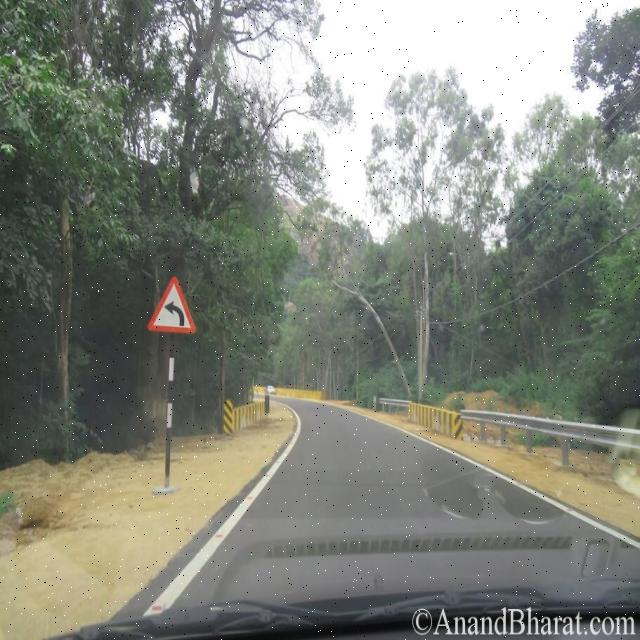left_hand_curve: (151, 272, 200, 336)
